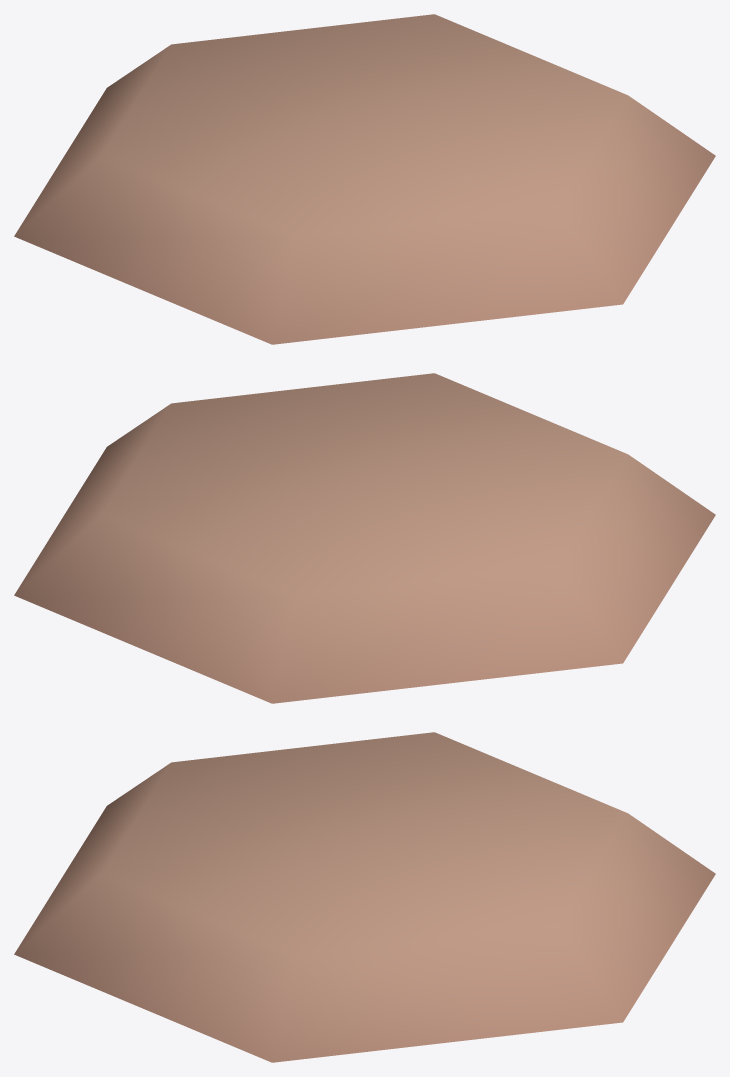
The model's file is (%no-merge) 7_0.glb.
3 views of the same model, one above another, from view 1: azimuth 30°, elevation 25°; view 2: azimuth 150°, elevation 25°; view 3: azimuth 270°, elevation 25° (orthographic).
Visible parts, largest first — view 1: (%no-merge) 7; view 2: (%no-merge) 7; view 3: (%no-merge) 7.
Part boxes in pixels (box(x1,y1,x2,y2)): (%no-merge) 7: box(14, 14, 715, 344); (%no-merge) 7: box(14, 373, 715, 703); (%no-merge) 7: box(14, 732, 715, 1062).
Size of the model in its own units: 0.1518 by 0.0168 by 0.1515.
